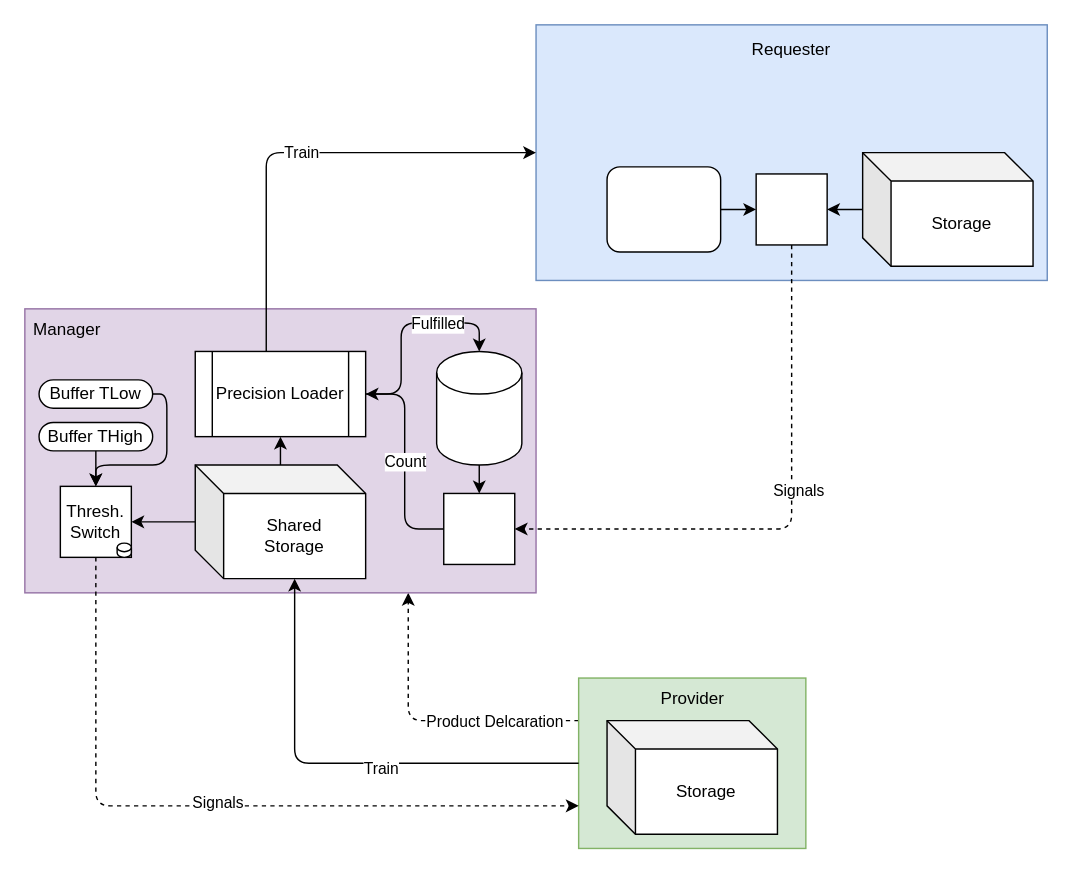
The diagram is 1072 pixels wide and 873 high, and some of its shapes have lost their labels. The centre of each missing label's shape, as x and y in pixels:
"Ideal Count" belongs at point (663, 208).
"Outgoing Mem." belongs at point (478, 407).
"Subtract (id - sto)" belongs at point (791, 209).
"Subtract (in - m)" belongs at point (478, 528).
